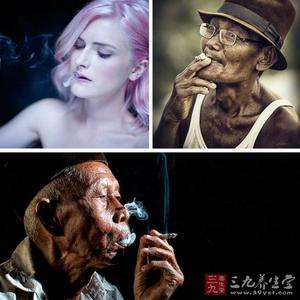cigarette: (154, 233, 181, 239), (193, 55, 211, 62)
